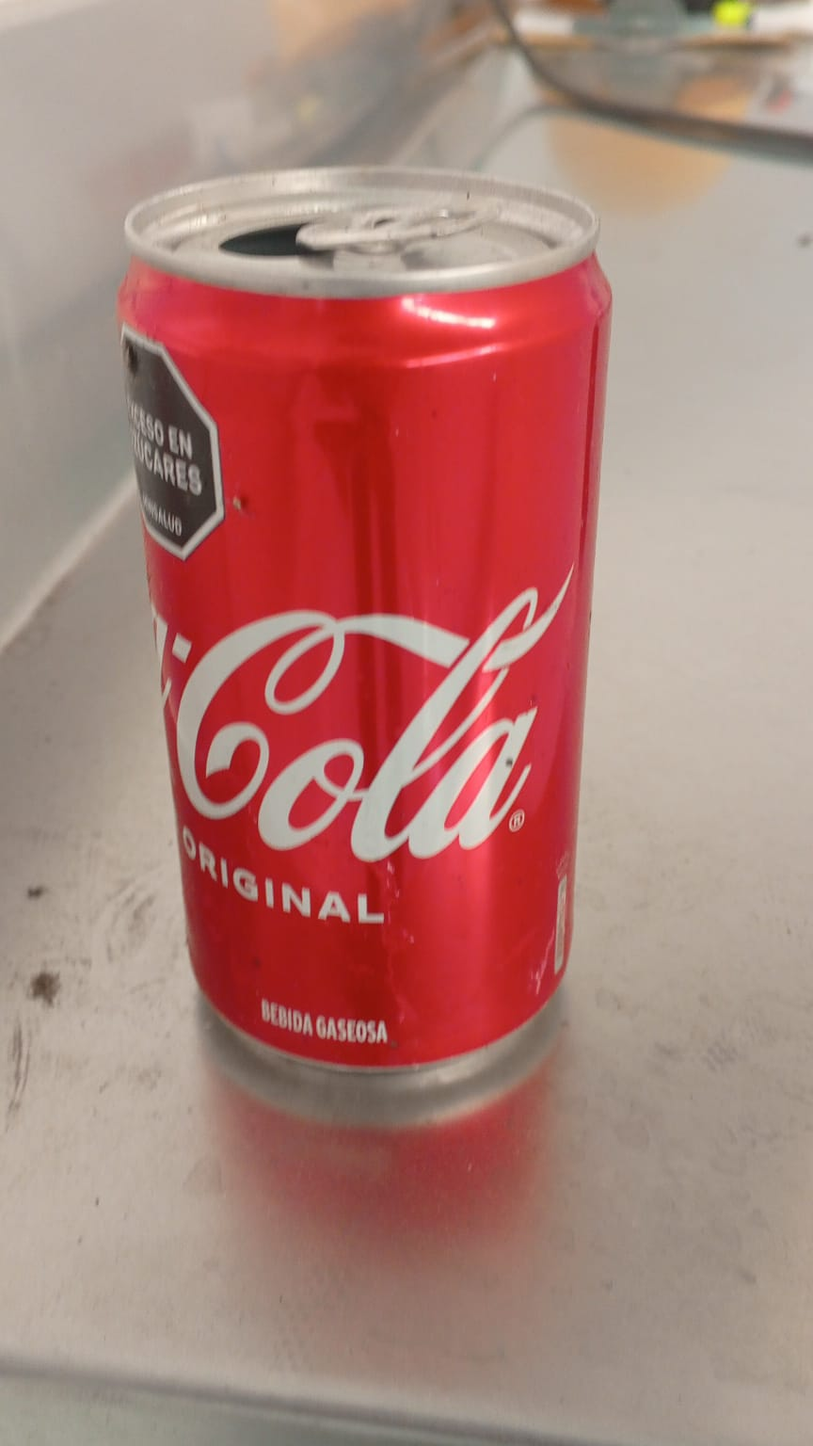Metal: (115, 171, 615, 1079)
